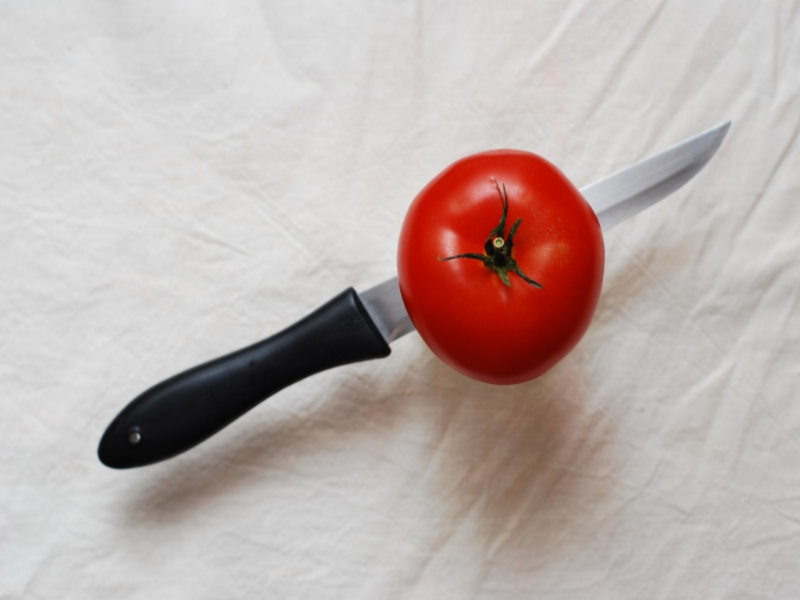knife: (94, 115, 735, 472)
